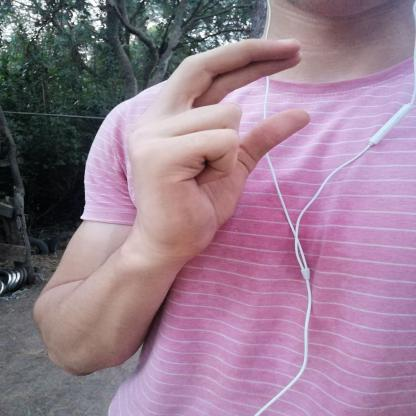DHELL: (110, 27, 321, 254)
